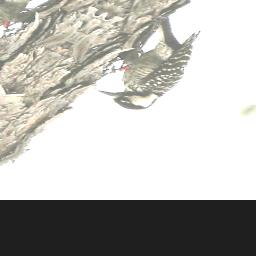Woodpecker: (72, 14, 233, 114)
